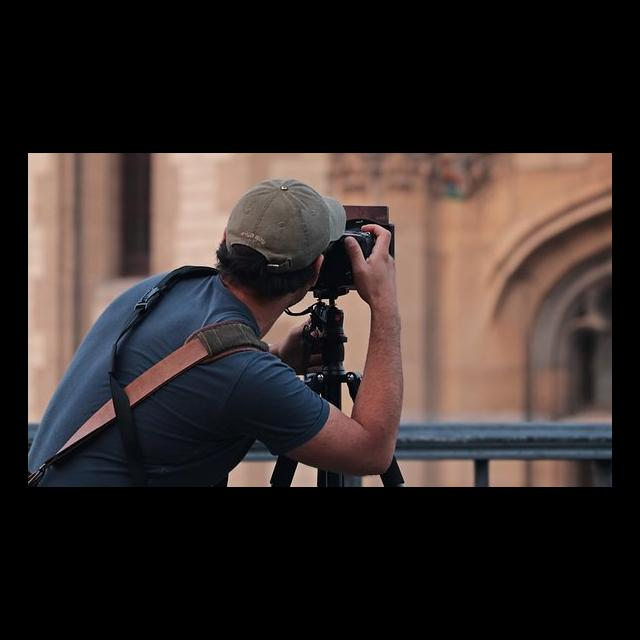male: (226, 155, 336, 346)
